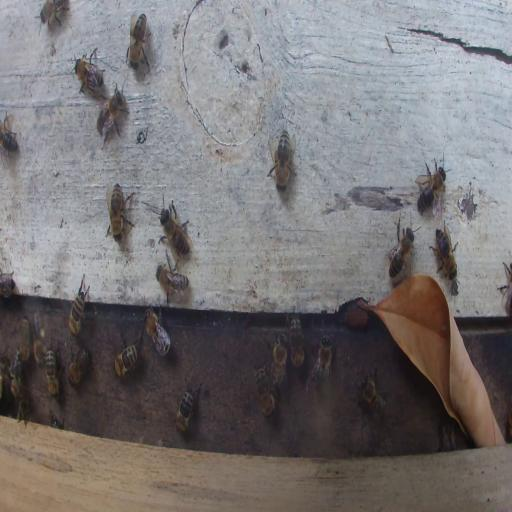nonpollenbee: (156, 196, 192, 258), (414, 155, 450, 215), (266, 129, 297, 191), (104, 181, 136, 241), (96, 84, 128, 141), (386, 223, 416, 279), (430, 222, 458, 281), (72, 48, 105, 96), (358, 367, 386, 423), (68, 274, 92, 336), (143, 304, 171, 356), (156, 257, 189, 301), (309, 335, 334, 392), (126, 12, 150, 69), (174, 384, 201, 432), (114, 330, 140, 379), (254, 362, 276, 418), (35, 0, 69, 32), (1, 108, 18, 166), (67, 346, 91, 386), (288, 314, 305, 370), (271, 333, 287, 390), (46, 348, 59, 397), (18, 316, 30, 365), (440, 422, 456, 452), (10, 365, 23, 400), (0, 270, 16, 298), (16, 397, 30, 424), (50, 413, 63, 427)
pollenbee: (32, 310, 46, 366)
